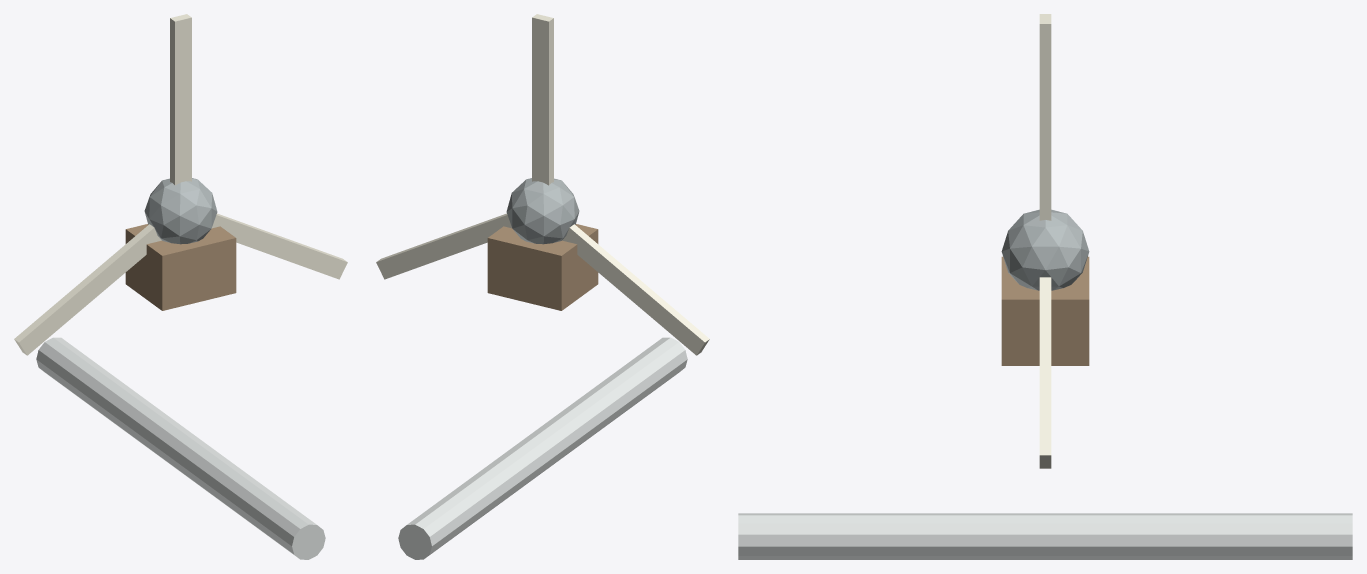
The model's file is rural-wind-turbine-lod0.glb.
The picture shows the model from 3 angles, left to right: view 1: azimuth 30°, elevation 25°; view 2: azimuth 150°, elevation 25°; view 3: azimuth 270°, elevation 25°; orthographic projection. The views are drawn at different scales.
Parts seen in each view (by area): view 1: mast, generator, blade1, hub, blade0, blade2; view 2: mast, generator, blade1, hub, blade0, blade2; view 3: mast, generator, hub, blade0, blade2.
Boxes of the visible parts, x1,y1,x2,y2 form: mast: (36, 337, 325, 559); generator: (125, 224, 236, 310); blade1: (14, 224, 161, 355); hub: (144, 178, 217, 244); blade0: (170, 14, 191, 185); blade2: (212, 213, 347, 279); mast: (398, 337, 687, 559); generator: (487, 224, 598, 310); blade1: (562, 224, 709, 355); hub: (506, 178, 579, 244); blade0: (532, 14, 553, 185); blade2: (376, 213, 511, 279); mast: (738, 513, 1352, 559); generator: (1001, 256, 1089, 365); hub: (1001, 209, 1089, 290); blade0: (1039, 14, 1051, 220); blade2: (1039, 277, 1051, 468).
Size of the model in its own units: 3.12 by 4.07 by 4.2.
